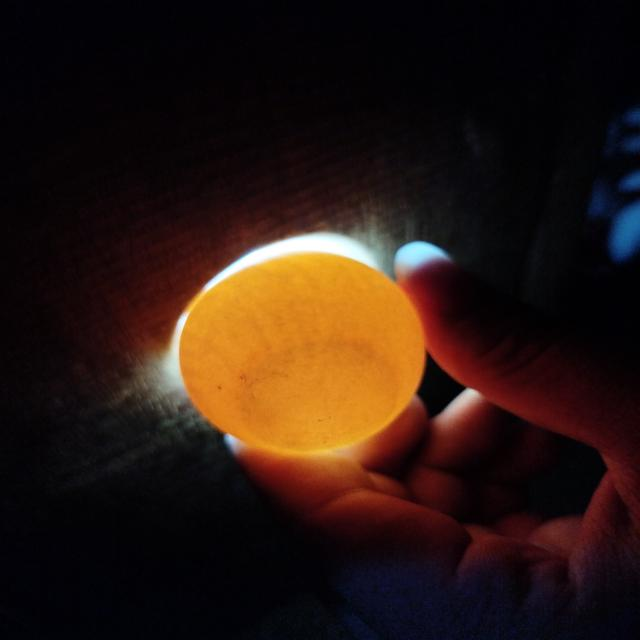Camara de Ar: (240, 339, 397, 450)
